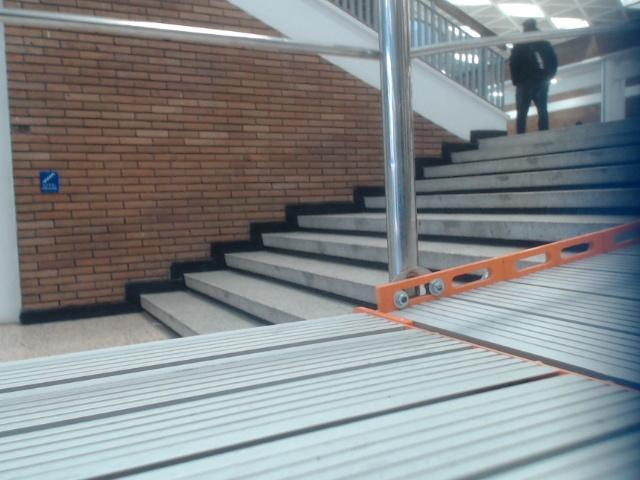rampUp: (0, 224, 639, 479)
ramps-railing: (0, 0, 544, 279)
